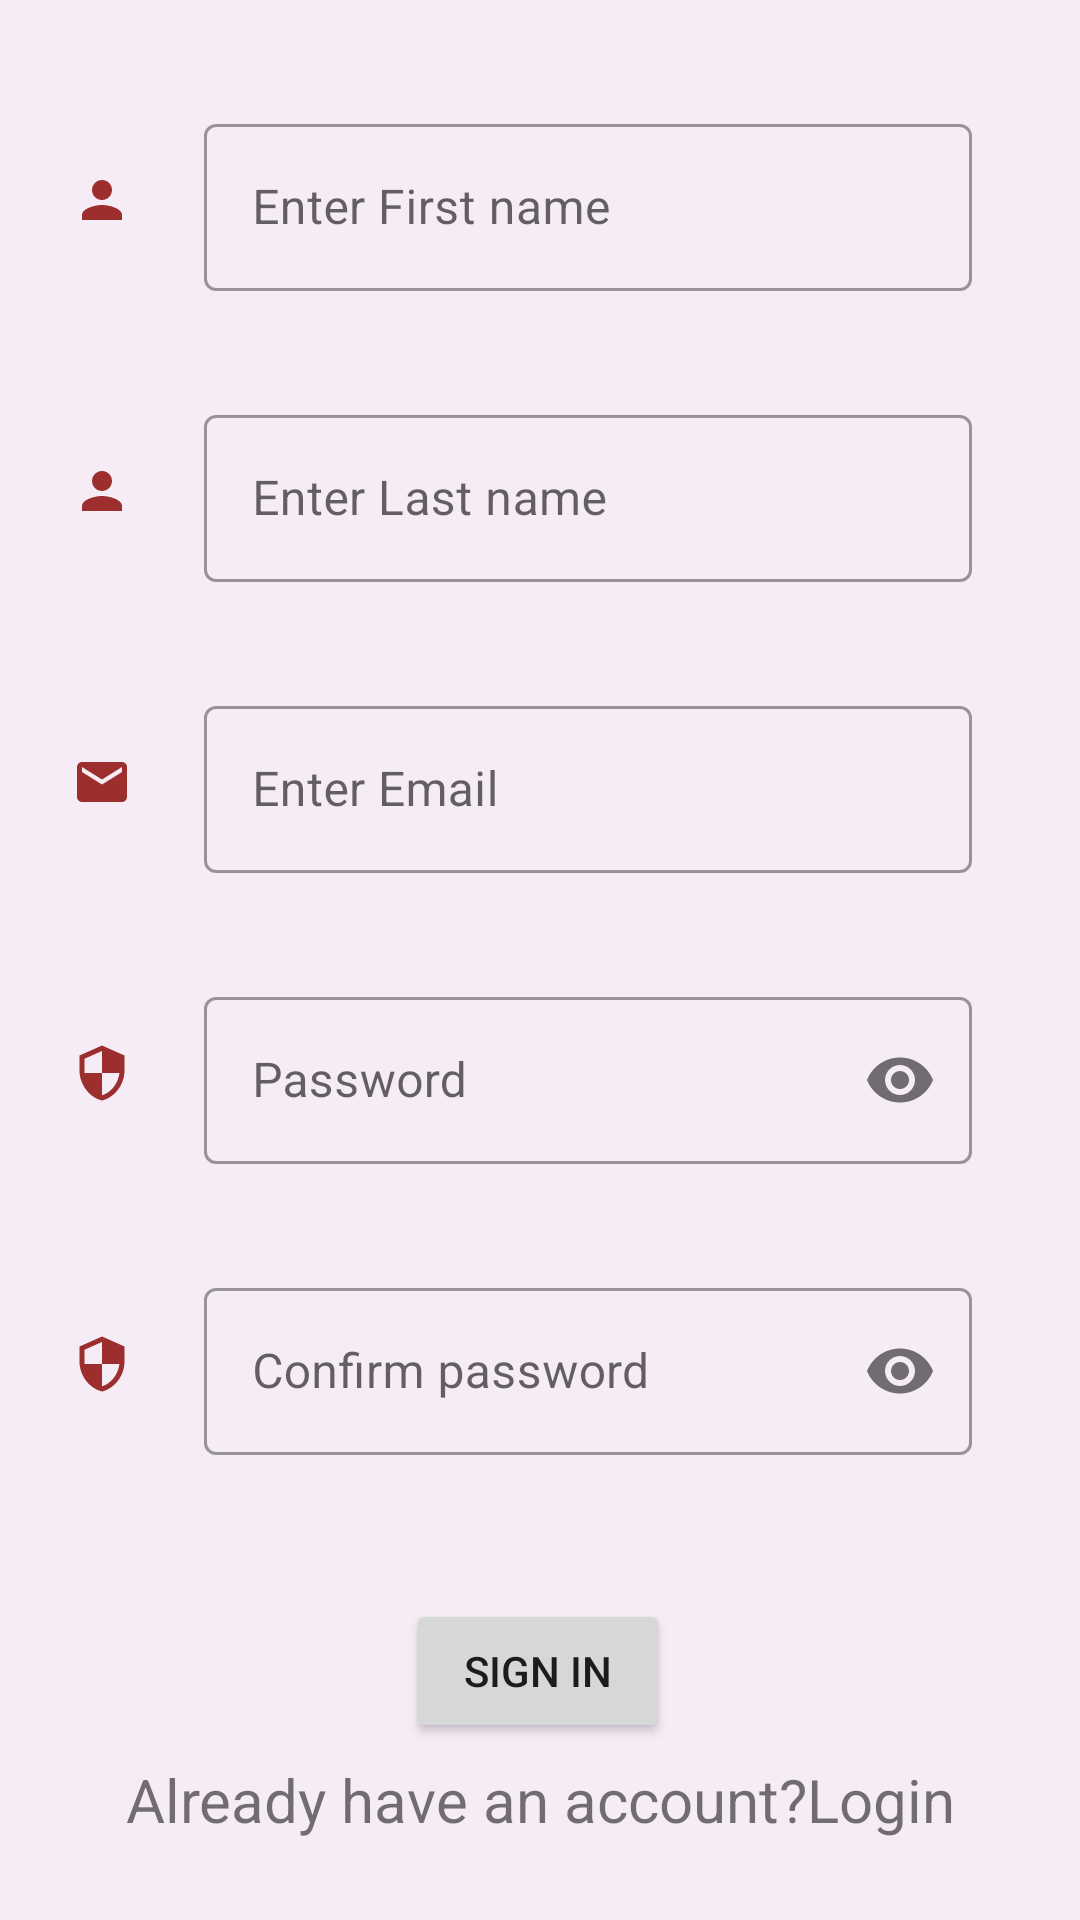

Named icons in this screenshot (1080×1920) and their centers, (x=x, y=y):
person: (x=102, y=200), (x=102, y=491)
security: (x=102, y=1073), (x=102, y=1364)
